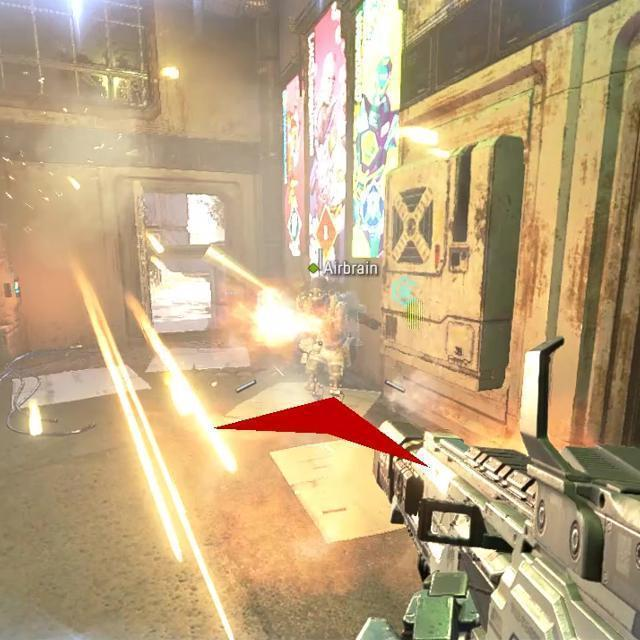avatar: (293, 272, 350, 405)
